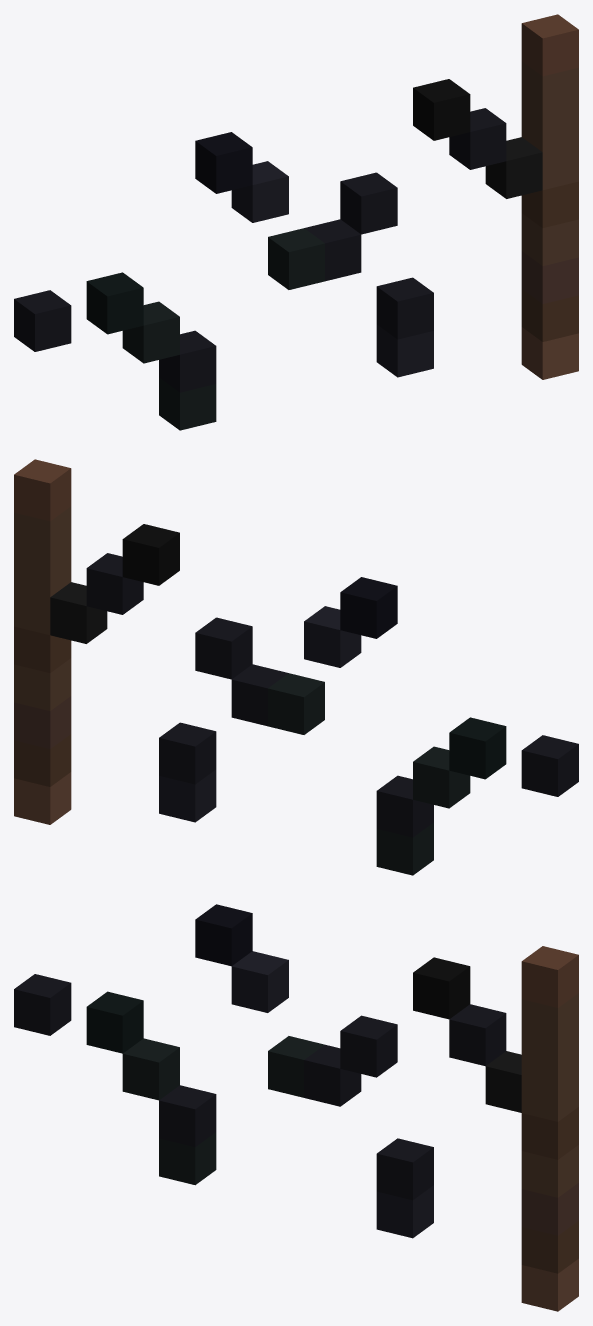
The model's file is metalfence_one_side_topbar.glb.
The picture shows the model from 3 angles, top to bottom: view 1: azimuth 30°, elevation 25°; view 2: azimuth 150°, elevation 25°; view 3: azimuth 330°, elevation 25°; orthographic projection.
Visible parts, largest first — view 1: metalfence_one_side_topbar; view 2: metalfence_one_side_topbar; view 3: metalfence_one_side_topbar.
Boxes of the visible parts, bbox=[...] form: metalfence_one_side_topbar: bbox=[14, 14, 578, 430]; metalfence_one_side_topbar: bbox=[14, 459, 578, 875]; metalfence_one_side_topbar: bbox=[14, 904, 578, 1311].
Size of the model in its own units: 3.75 by 2.25 by 0.25.
1 material, 1 textured.
